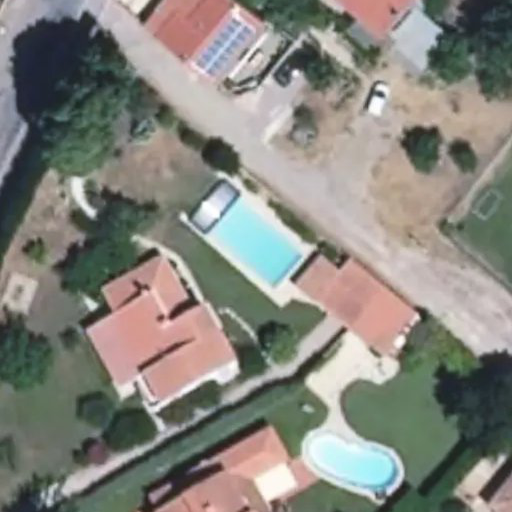pool: (207, 229, 304, 255)
